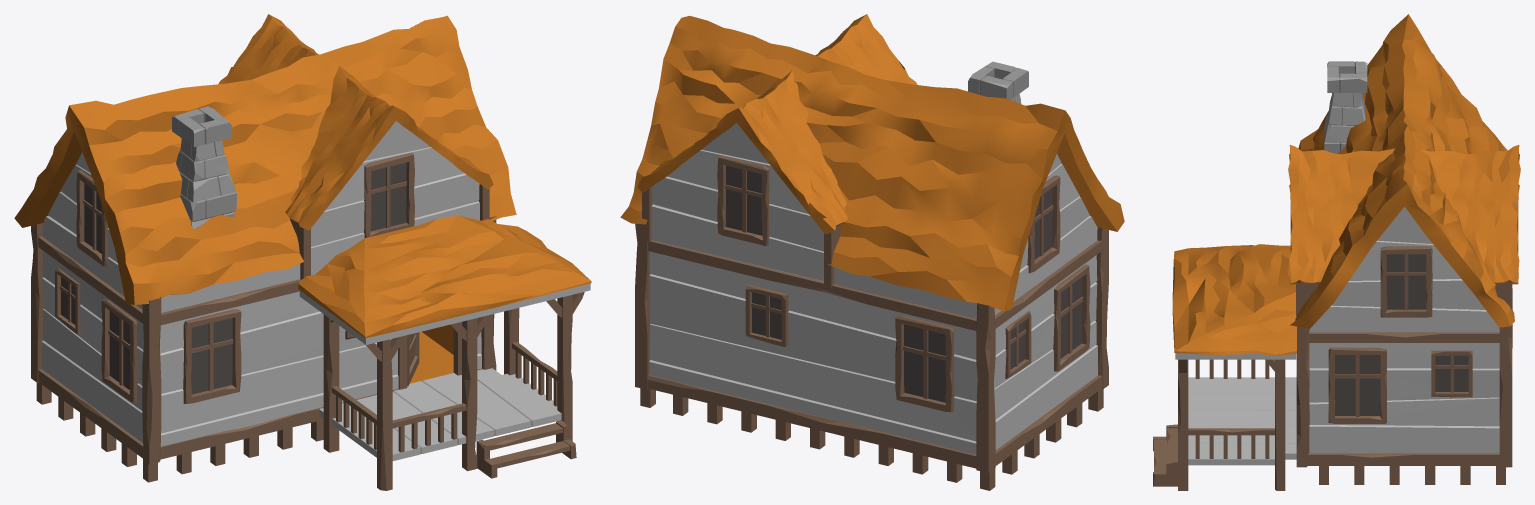
The model's file is House_1.fbx.
3 renders of one model, left to right at view 1: azimuth 30°, elevation 25°; view 2: azimuth 150°, elevation 25°; view 3: azimuth 270°, elevation 25°, orthographic. The views are drawn at different scales.
Parts seen in each view (by area): view 1: House_1.001; view 2: House_1.001; view 3: House_1.001.
Boxes of the visible parts, bbox=[...] form: House_1.001: bbox=[14, 14, 591, 490]; House_1.001: bbox=[620, 14, 1124, 490]; House_1.001: bbox=[1153, 14, 1520, 490].
Size of the model in its own units: 260 by 211 by 227.
